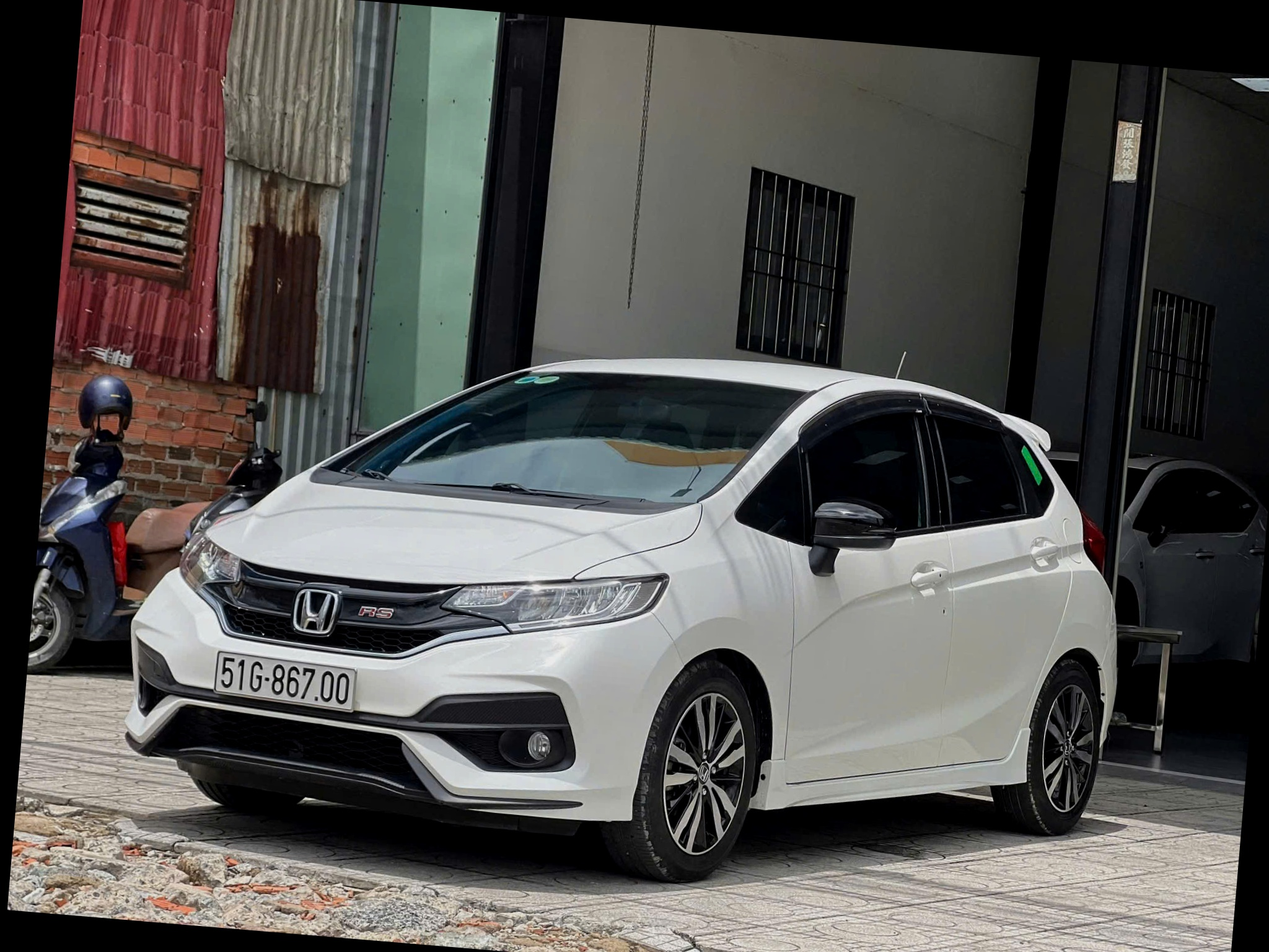Bien-so: (228, 690, 379, 760)
